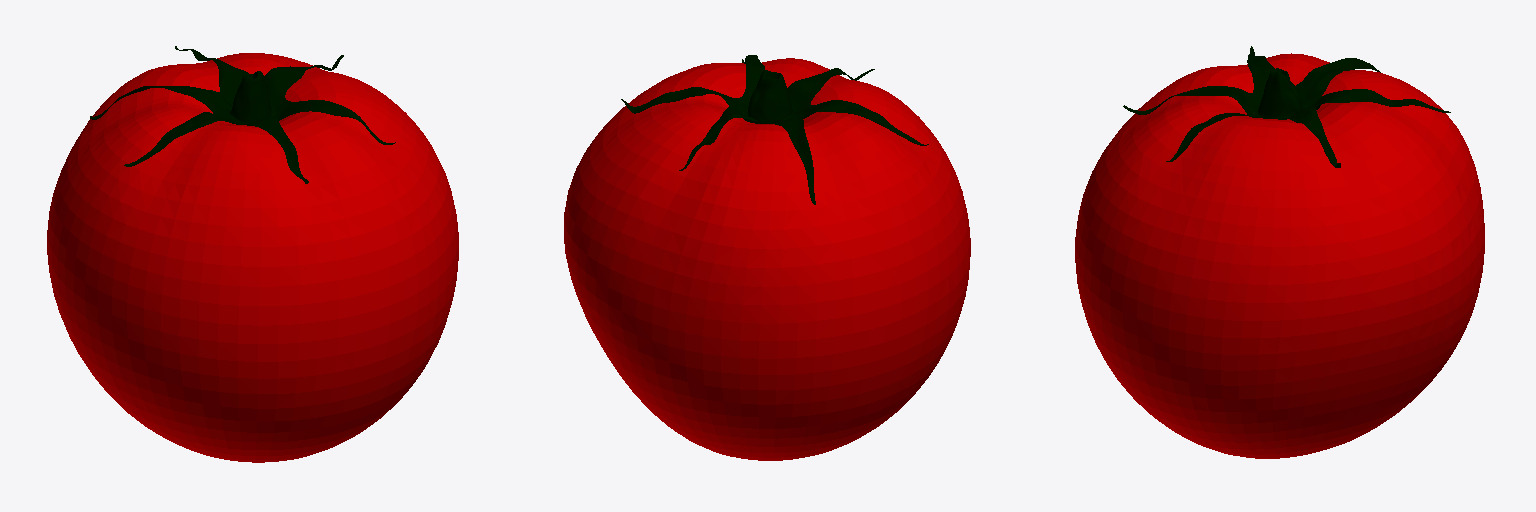
File: Tomato.obj
3 renders of one model, left to right at view 1: azimuth 30°, elevation 25°; view 2: azimuth 150°, elevation 25°; view 3: azimuth 270°, elevation 25°, orthographic.
Parts seen in each view (by area): view 1: Tomato_Sphere, Green_tomatojuice.001; view 2: Tomato_Sphere, Green_tomatojuice.001; view 3: Tomato_Sphere, Green_tomatojuice.001.
Boxes of the visible parts, x1=… form: Tomato_Sphere: x1=47, y1=53, x2=458, y2=462; Green_tomatojuice.001: x1=90, y1=46, x2=395, y2=183; Tomato_Sphere: x1=564, y1=58, x2=970, y2=460; Green_tomatojuice.001: x1=621, y1=55, x2=928, y2=204; Tomato_Sphere: x1=1075, y1=53, x2=1484, y2=458; Green_tomatojuice.001: x1=1123, y1=46, x2=1450, y2=167.
Bounding box in the file's own units: 1.97 × 1.96 × 1.97.